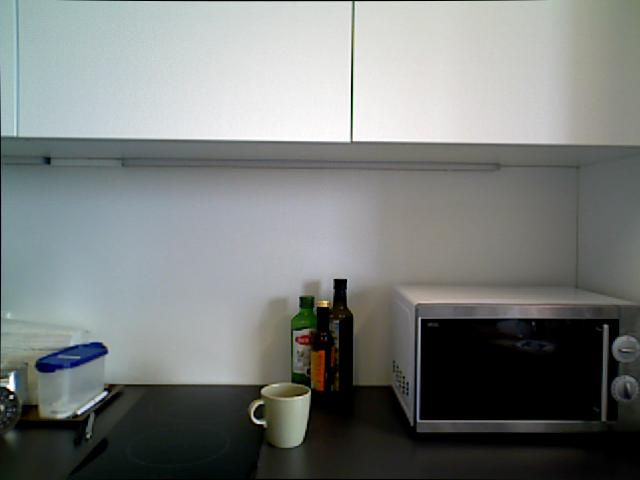bench: (328, 277, 353, 396), (309, 299, 334, 397), (290, 295, 316, 387)
handbag: (247, 381, 311, 449)
knife: (389, 282, 639, 435)
